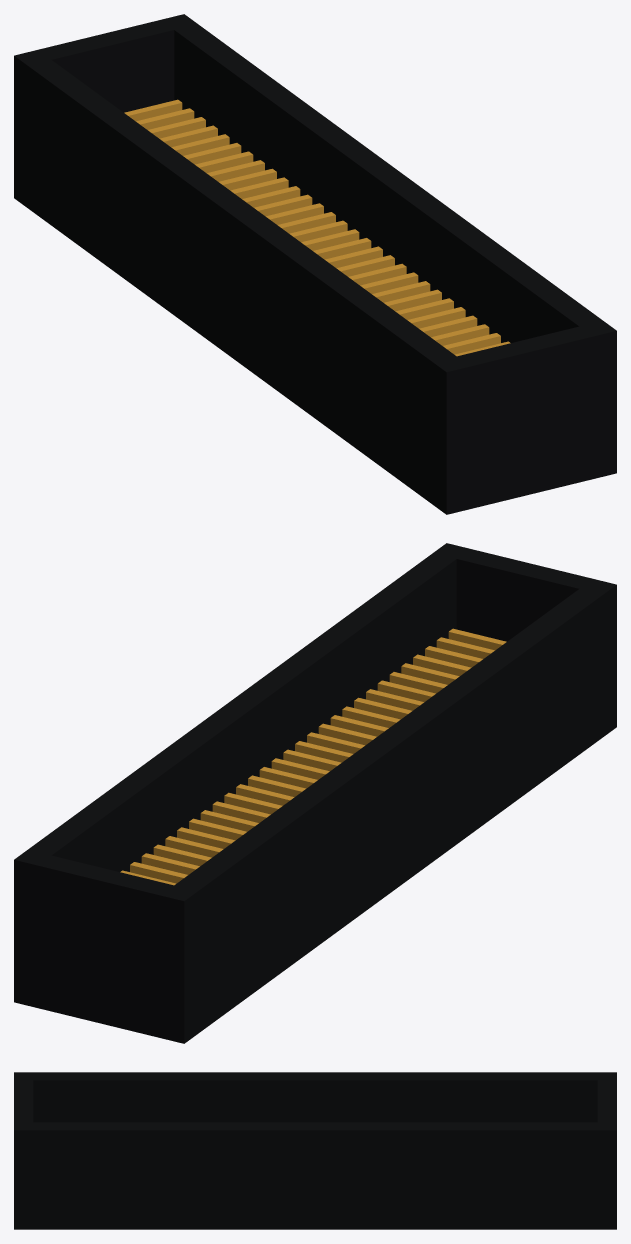
The picture shows the model from 3 angles, top to bottom: view 1: azimuth 30°, elevation 25°; view 2: azimuth 150°, elevation 25°; view 3: azimuth 270°, elevation 25°; orthographic projection. The views are drawn at different scales.
Parts seen in each view (by area): view 1: M2_1_Black, M2_1_Gold; view 2: M2_1_Black, M2_1_Gold; view 3: M2_1_Black.
Part boxes in pixels (x1=…): M2_1_Black: x1=14, y1=14, x2=616, y2=514; M2_1_Gold: x1=124, y1=99, x2=510, y2=356; M2_1_Black: x1=14, y1=543, x2=616, y2=1043; M2_1_Gold: x1=120, y1=628, x2=506, y2=885; M2_1_Black: x1=14, y1=1072, x2=616, y2=1229.
Size of the model in its own units: 0.5 by 0.4 by 2.2.
